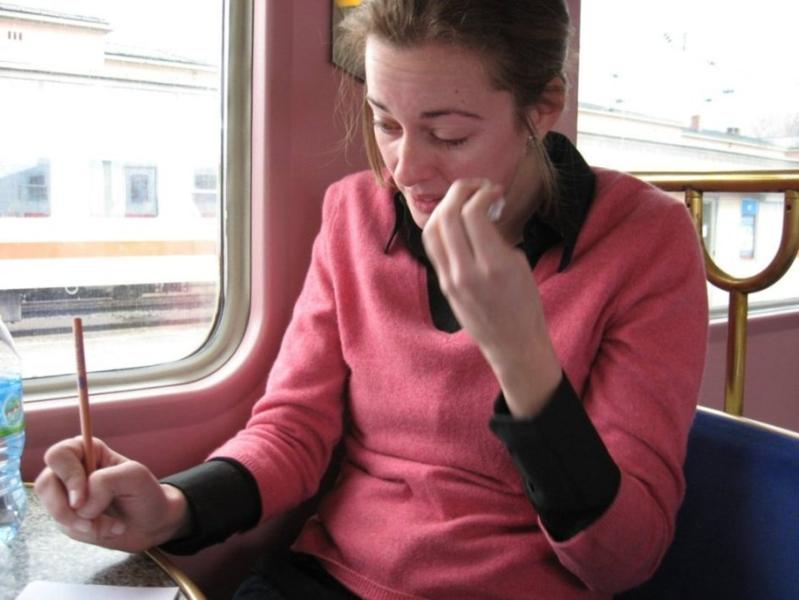person: (40, 3, 707, 599)
